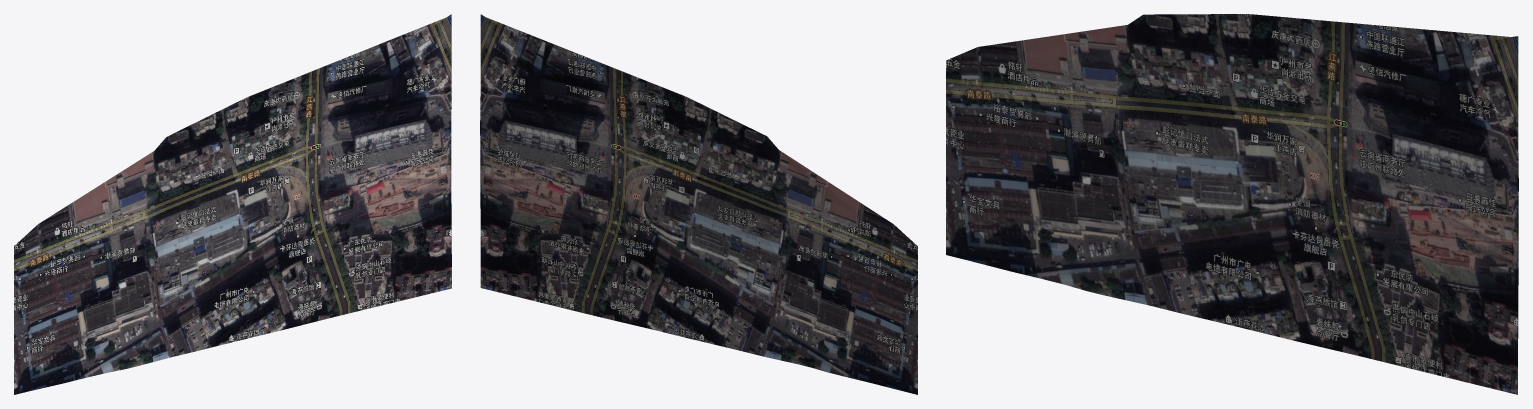
3 views of the same model, side by side, from view 1: azimuth 30°, elevation 25°; view 2: azimuth 150°, elevation 25°; view 3: azimuth 330°, elevation 25° (orthographic). The views are drawn at different scales.
Parts seen in each view (by area): view 1: 0_3_1_2_3_3; view 2: 0_3_1_2_3_3; view 3: 0_3_1_2_3_3.
Boxes of the visible parts, left/top/right/bottom form: 0_3_1_2_3_3: left=14, top=14, right=451, bottom=394; 0_3_1_2_3_3: left=480, top=14, right=917, bottom=394; 0_3_1_2_3_3: left=946, top=14, right=1518, bottom=394.
Size of the model in its own units: 486 by 291 by 6.23.
1 material, 1 textured.
